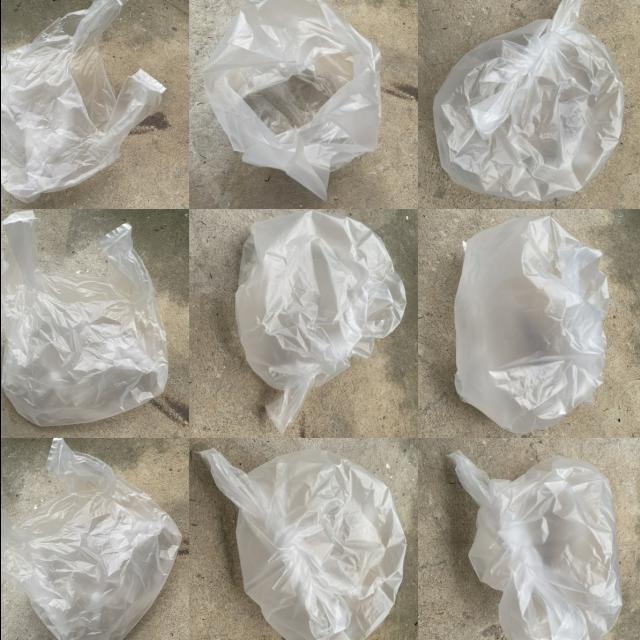plastik: (198, 448, 406, 640), (433, 0, 623, 201), (234, 211, 405, 433), (0, 439, 181, 640), (0, 211, 167, 427), (202, 0, 380, 200), (453, 216, 608, 433), (0, 0, 164, 203), (447, 451, 620, 640)
